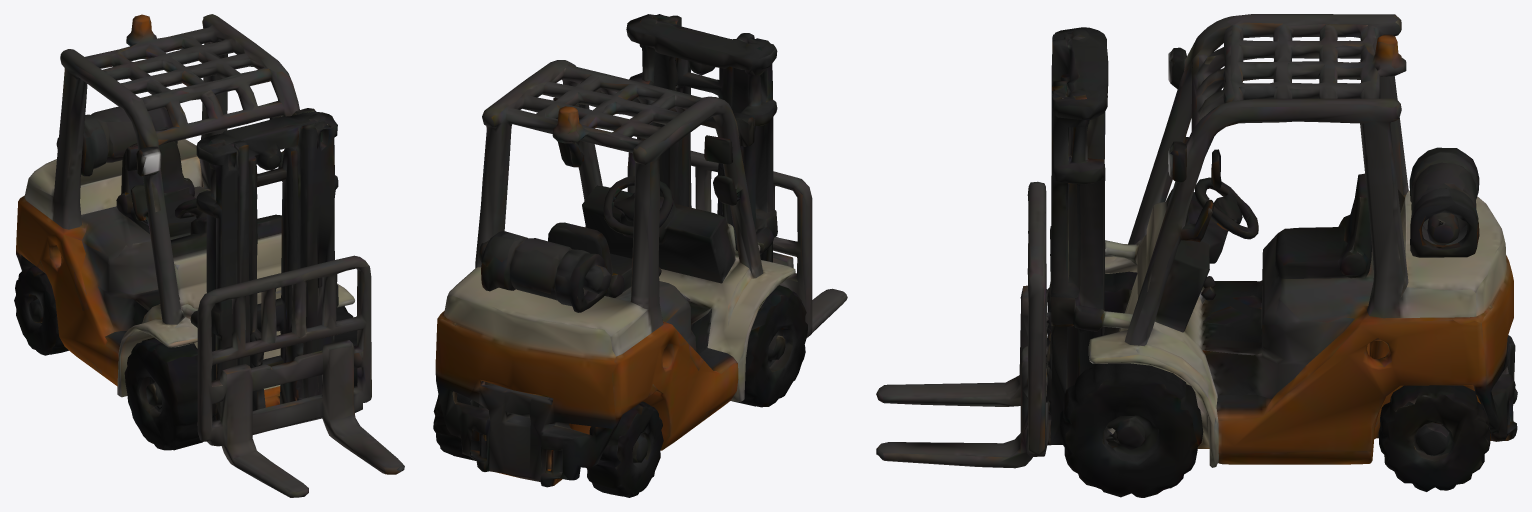
Rendered from forklift.glb.
3 views of the same model, side by side, from view 1: azimuth 30°, elevation 25°; view 2: azimuth 150°, elevation 25°; view 3: azimuth 270°, elevation 25° (orthographic). The views are drawn at different scales.
Visible parts, largest first — view 1: geometry_0; view 2: geometry_0; view 3: geometry_0.
Boxes of the visible parts, box(x1,y1,x2,y2) form: geometry_0: box(14, 14, 404, 497); geometry_0: box(433, 14, 847, 497); geometry_0: box(876, 14, 1517, 497).
Size of the model in its own units: 0.4243 by 0.7014 by 1.
1 material, 1 textured.
